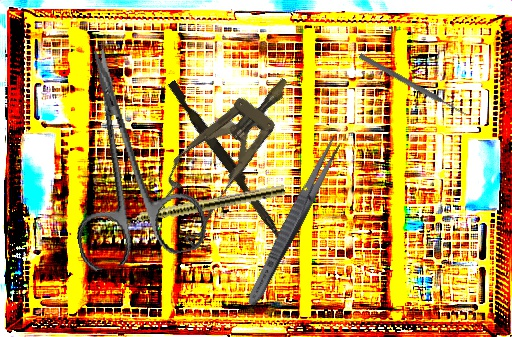Dressing Forceps: (242, 131, 346, 310)
Handpiece: (107, 182, 286, 230)
Iris Scissors: (40, 35, 211, 274)
Pusher: (163, 79, 295, 249), (357, 52, 468, 118)
Speculum: (138, 57, 314, 249)
